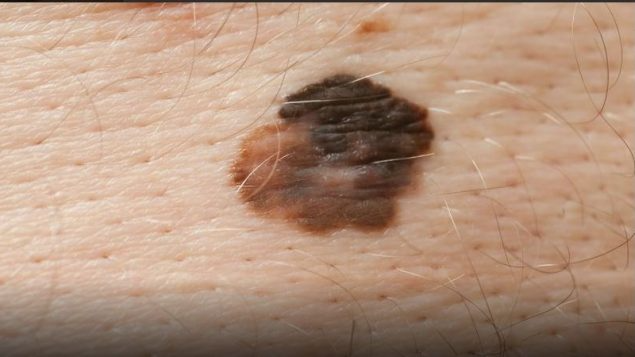Melanoma: (231, 73, 438, 238)
